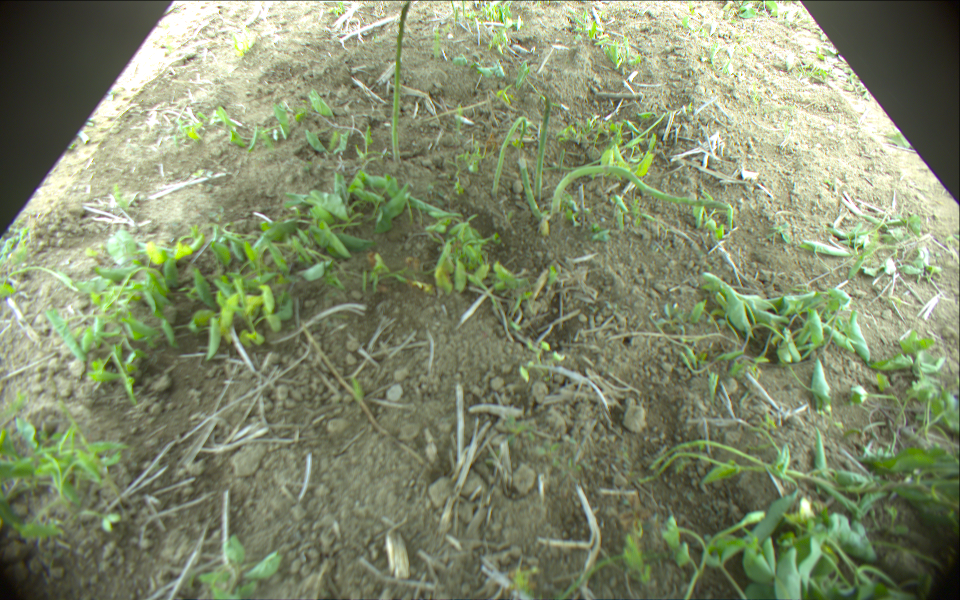aspa: (552, 164, 727, 215), (489, 114, 527, 194), (391, 1, 410, 158), (533, 93, 550, 195), (521, 156, 539, 219)
